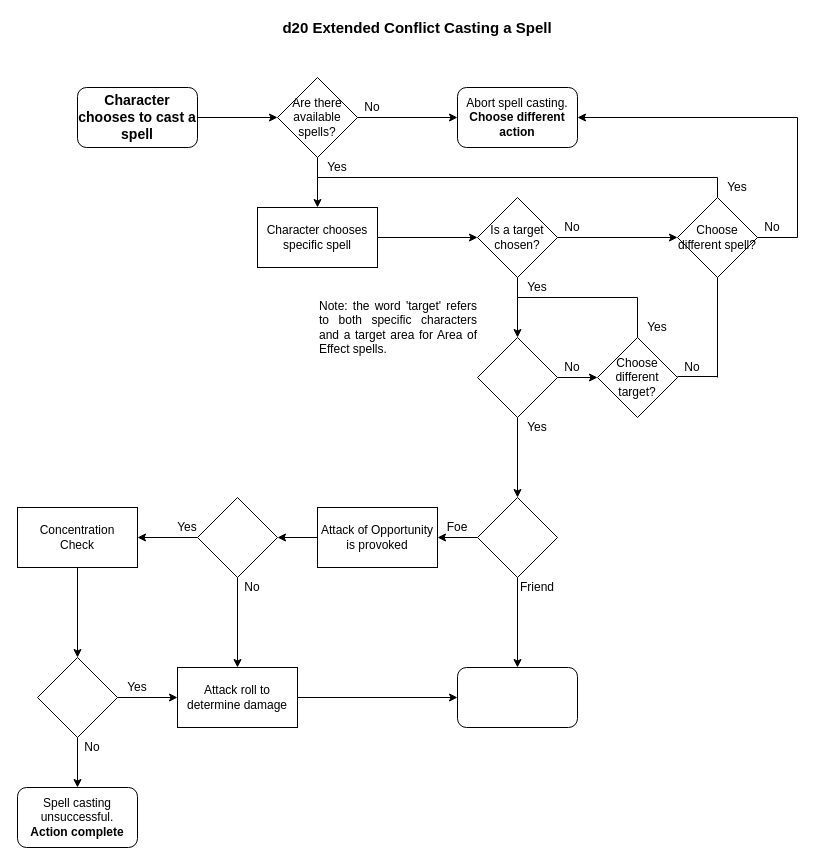
The diagram is 823 pixels wide and 865 high, and some of its shapes have lost their labels. The shapes that lost their labels are listed below. From the top down, each one's centre as x and y in pixels, then its label:
At point (517, 377): "Is target within range?".
At point (237, 537): "Does foe attack?".
At point (517, 537): "Friend or foe target?".
At point (77, 697): "Check success?".
At point (517, 697): "Spell is cast. Action complete".
